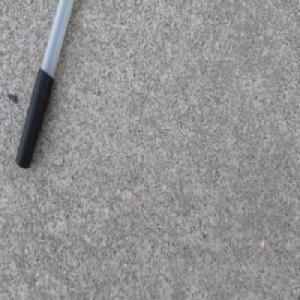Pen: (12, 0, 76, 173)
